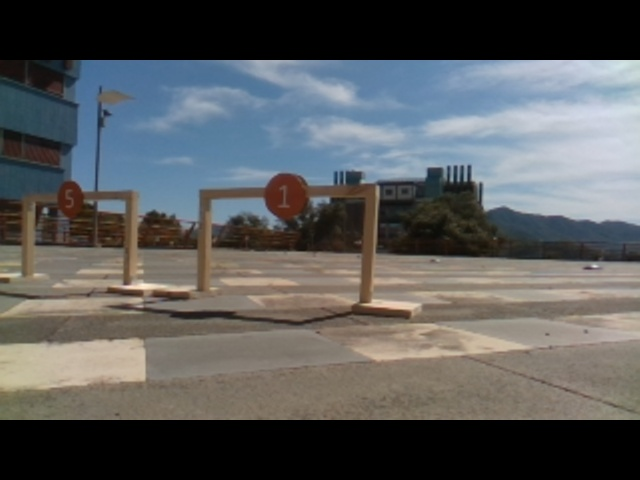checkpoint_foot: (350, 297, 422, 319), (158, 284, 219, 298), (105, 279, 154, 296), (1, 270, 45, 283)
checkpoint_side: (357, 180, 380, 303), (122, 185, 140, 286), (196, 185, 212, 288)
checkpoint_signal: (196, 182, 381, 199)
five: (54, 178, 86, 217)
one: (262, 169, 309, 218)
